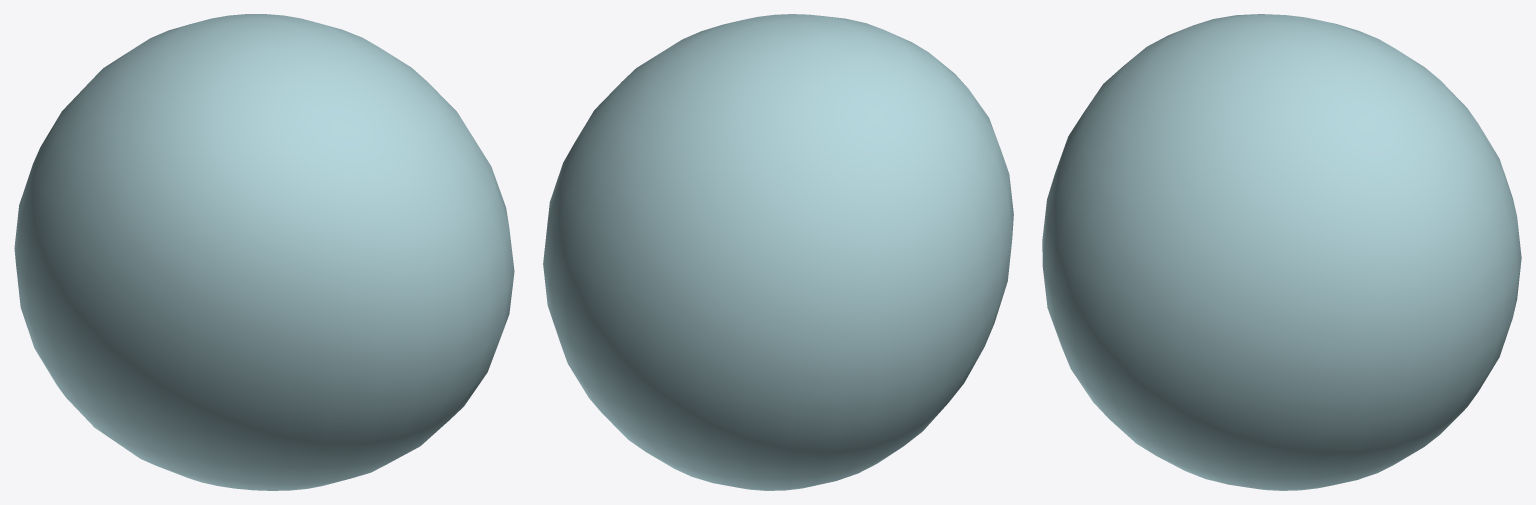
Rendered from 大招拖尾1格尔.FBX.
The picture shows the model from 3 angles, left to right: view 1: azimuth 30°, elevation 25°; view 2: azimuth 150°, elevation 25°; view 3: azimuth 270°, elevation 25°; orthographic projection. The views are drawn at different scales.
Parts seen in each view (by area): view 1: Sphere001; view 2: Sphere001; view 3: Sphere001.
Boxes of the visible parts, <box> form: Sphere001: <box>14,14,514,490</box>; Sphere001: <box>543,14,1013,490</box>; Sphere001: <box>1042,14,1521,490</box>.
Bounding box in the file's own units: 14.89 × 14.84 × 15.16.
